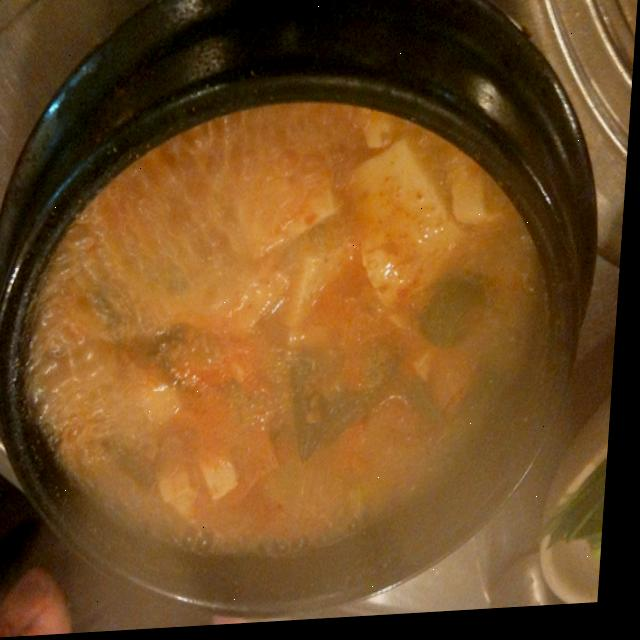汤锅炖物: (0, 12, 610, 640)
